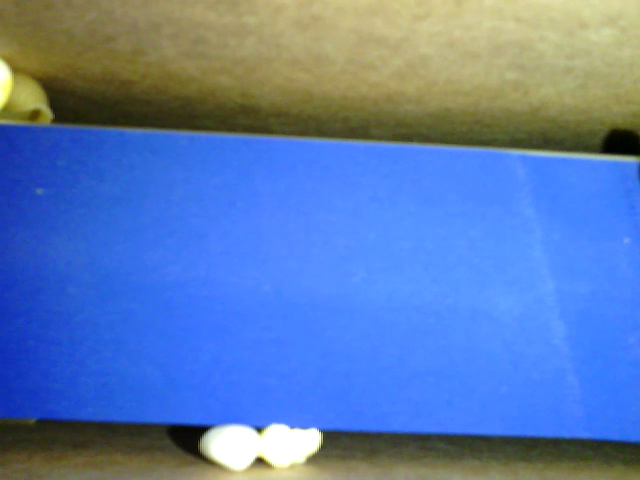shell: (3, 71, 56, 127)
